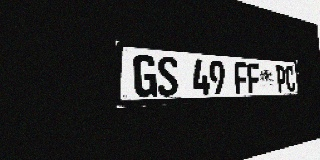4: (192, 59, 210, 95)
9: (209, 60, 226, 95)
C: (285, 66, 296, 92)
F: (234, 62, 249, 94), (247, 63, 261, 93)
G: (133, 54, 157, 97)
P: (275, 65, 287, 92)
S: (157, 56, 179, 97)
